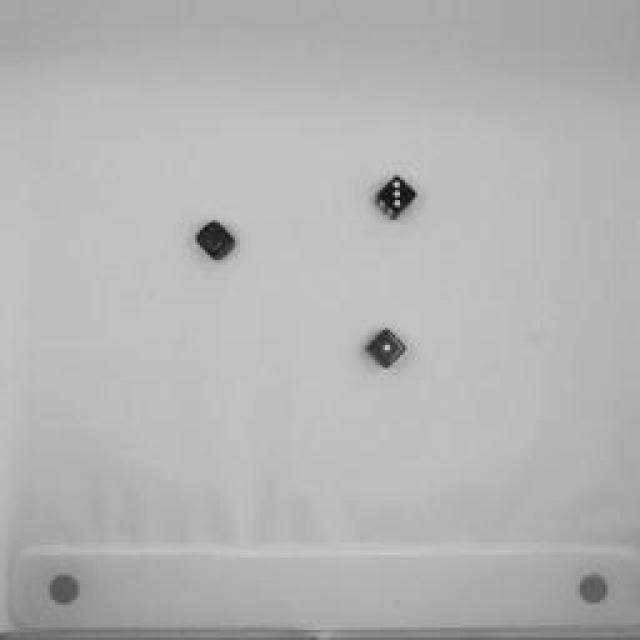dice_1: (360, 320, 410, 372)
dice_2: (190, 215, 242, 265)
dice_3: (370, 175, 420, 225)
